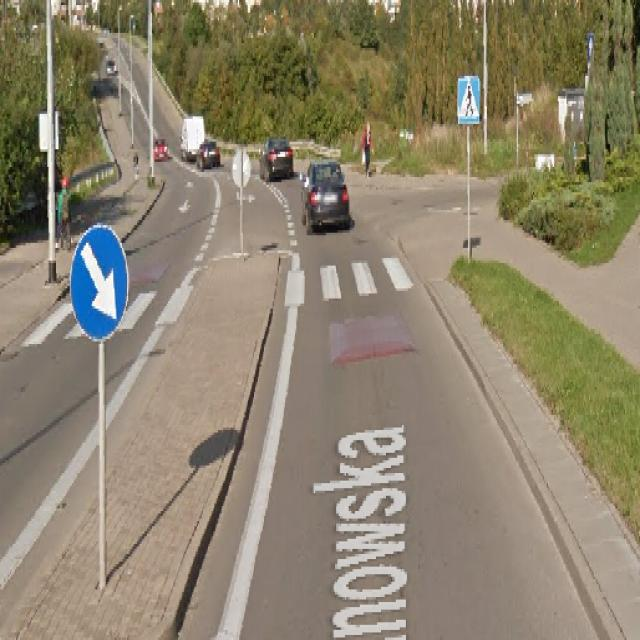Przejscie dla pieszych: (457, 76, 482, 129)
